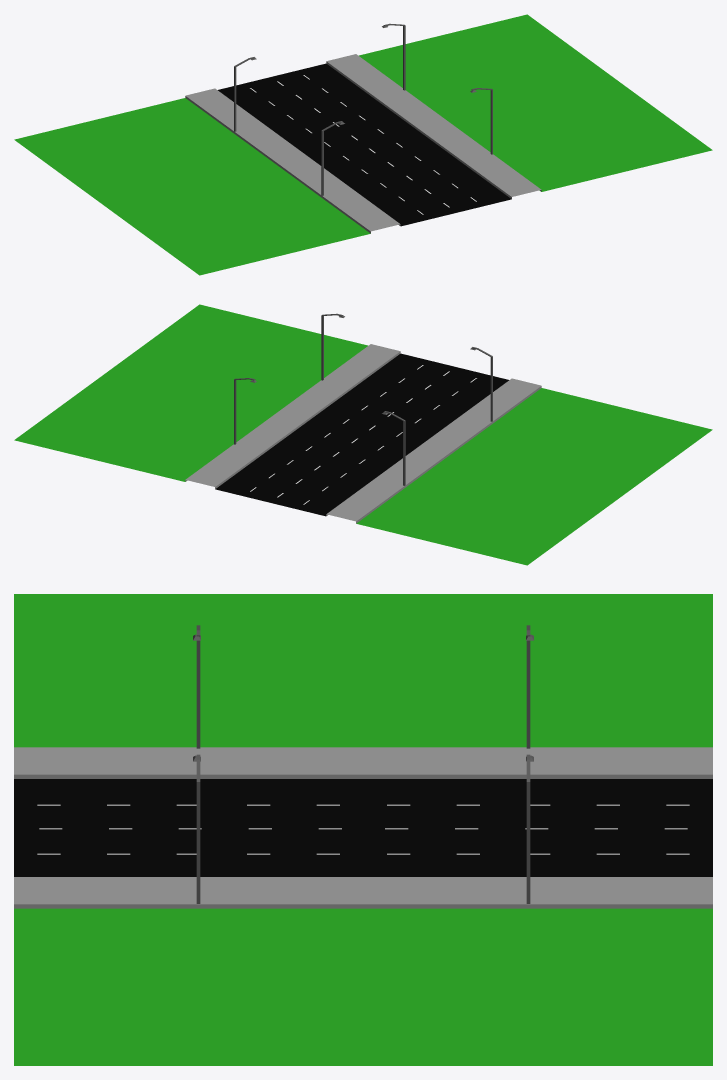
Rendered from DrogaMiasto3.fbx.
The picture shows the model from 3 angles, top to bottom: view 1: azimuth 30°, elevation 25°; view 2: azimuth 150°, elevation 25°; view 3: azimuth 270°, elevation 25°; orthographic projection. The views are drawn at different scales.
Visible parts, largest first — view 1: DrogaMiasto; view 2: DrogaMiasto; view 3: DrogaMiasto.
Part boxes in pixels (x1,y1,x2,y2): DrogaMiasto: [14, 14, 712, 275]; DrogaMiasto: [14, 304, 712, 565]; DrogaMiasto: [14, 594, 712, 1065].
Size of the model in its own units: 4790 by 640 by 3000.
